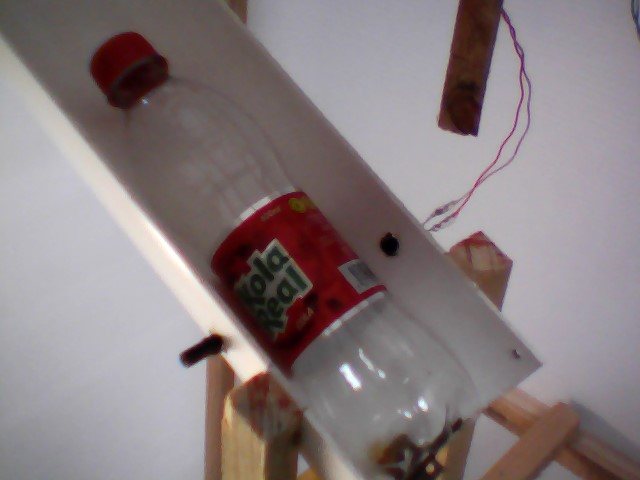plastico: (88, 23, 486, 480)
